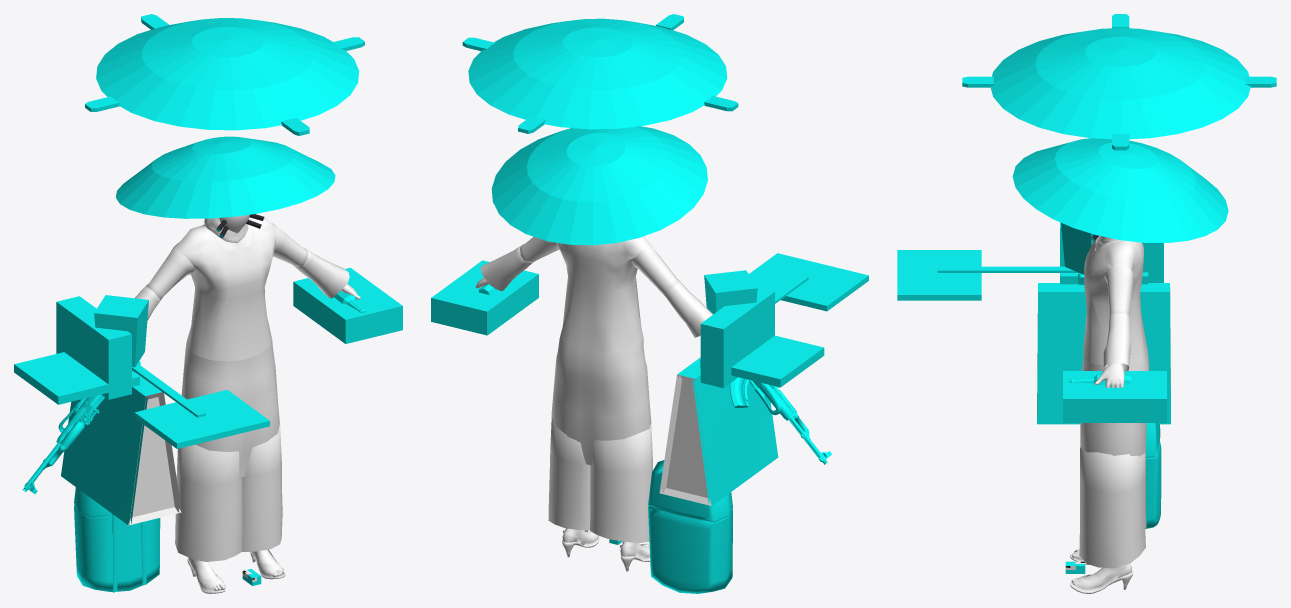
File: civilian3_arab.dae
The picture shows the model from 3 angles, left to right: view 1: azimuth 30°, elevation 25°; view 2: azimuth 150°, elevation 25°; view 3: azimuth 270°, elevation 25°; orthographic projection.
Parts seen in each view (by area): view 1: Umbrella1, Umbrella002, UpBody, LowLeg1, Handbag06, trolley, center, ProtestSign, Handbag, ShoppingBag, LowLeg2, Handbag05 (+9 smaller); view 2: Umbrella1, Umbrella002, Handbag06, center, UpBody, trolley, LowLeg1, Handbag, ShoppingBag, ProtestSign, LowLeg2, Handbag07 (+11 smaller); view 3: Umbrella1, Umbrella002, Handbag05, LowLeg2, ProtestSign, UpBody, ShoppingBag, center, trolley, LowArm2, UpArm2, Handbag01 (+4 smaller).
Part boxes in pixels (x1,y1,x2,y2): Umbrella1: (85, 14, 364, 135); Umbrella002: (116, 136, 335, 218); UpBody: (174, 217, 276, 361); LowLeg1: (175, 444, 242, 561); Handbag06: (61, 387, 178, 525); trolley: (74, 487, 160, 592); center: (181, 339, 279, 477); ProtestSign: (132, 363, 269, 448); Handbag: (56, 296, 131, 399); ShoppingBag: (293, 267, 402, 343); LowLeg2: (241, 423, 282, 551); Handbag05: (130, 372, 181, 523); Umbrella1: (462, 14, 738, 133); Umbrella002: (491, 126, 707, 245); Handbag06: (662, 374, 778, 505); center: (551, 339, 651, 465); UpBody: (556, 236, 650, 352); trolley: (648, 460, 732, 593); LowLeg1: (590, 423, 652, 543); Handbag: (700, 287, 774, 388); ShoppingBag: (431, 260, 538, 335); ProtestSign: (749, 253, 868, 311); LowLeg2: (548, 416, 590, 530); Handbag07: (700, 335, 824, 387); Umbrella1: (962, 14, 1276, 150); Umbrella002: (1012, 138, 1228, 242); Handbag05: (1037, 289, 1170, 424); LowLeg2: (1079, 447, 1145, 568); ProtestSign: (897, 250, 1078, 300); UpBody: (1083, 236, 1146, 365); ShoppingBag: (1063, 371, 1166, 422); center: (1080, 344, 1149, 456); trolley: (1145, 423, 1161, 528); LowArm2: (1103, 313, 1130, 371); UpArm2: (1104, 263, 1133, 316); Handbag01: (1061, 223, 1091, 274).
Bounding box in the file's own units: 1076 × 1492 × 974.
